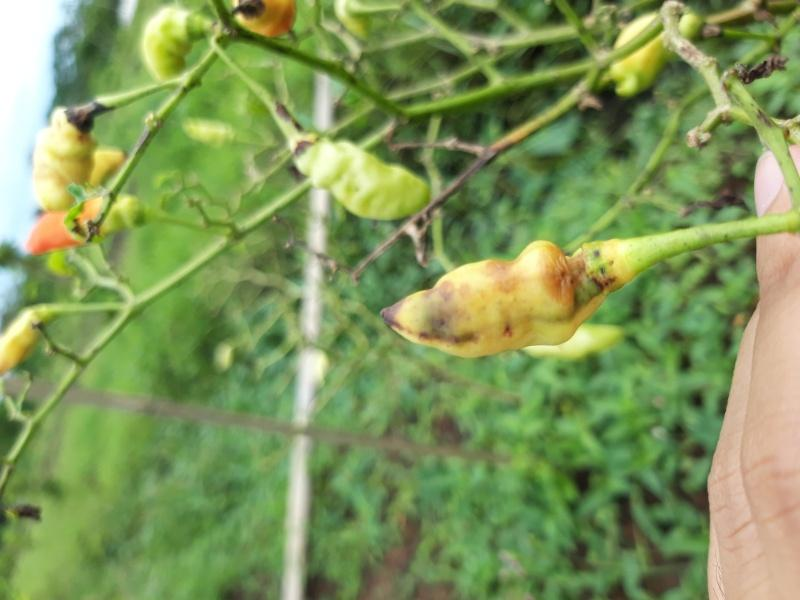cabai_normal: (304, 141, 433, 221), (34, 111, 94, 209), (143, 4, 200, 79)
lalat_buah: (382, 239, 616, 357)
